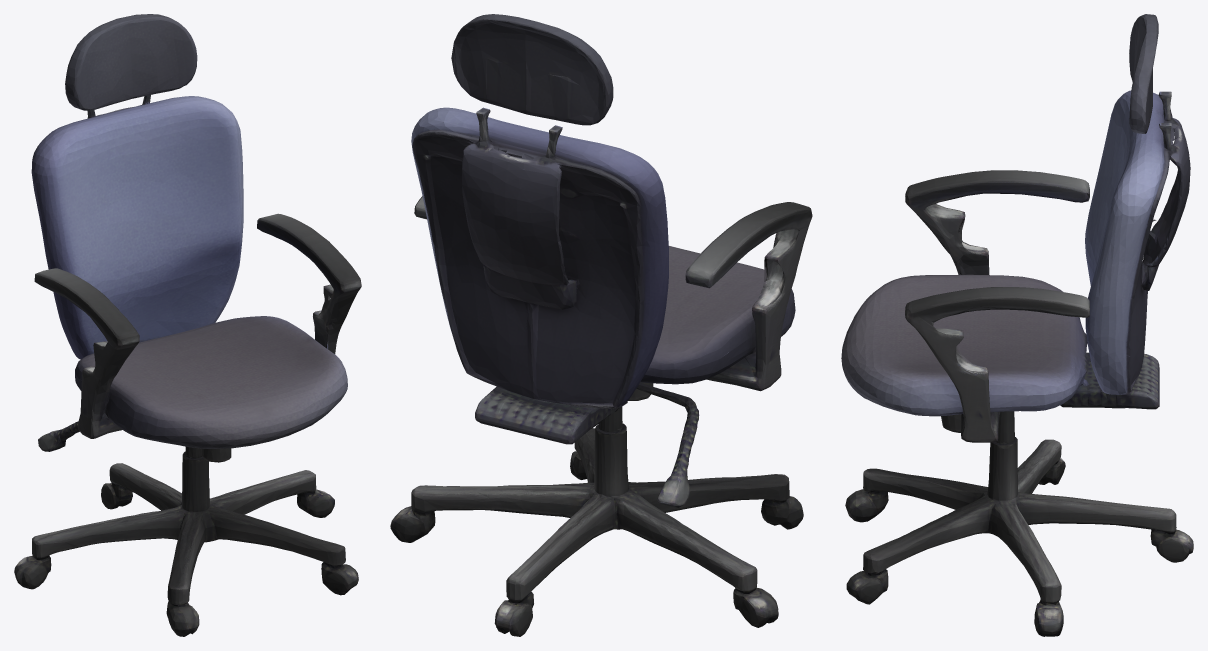
3 views of the same model, side by side, from view 1: azimuth 30°, elevation 25°; view 2: azimuth 150°, elevation 25°; view 3: azimuth 270°, elevation 25° (orthographic). The views are drawn at different scales.
Visible parts, largest first — view 1: world; view 2: world; view 3: world.
Boxes of the visible parts, x1,y1,x2,y2 form: world: (14,14,361,636); world: (390,14,812,636); world: (841,14,1193,636).
Size of the model in its own units: 0.6672 by 1 by 0.6001.
1 material, 1 textured.
